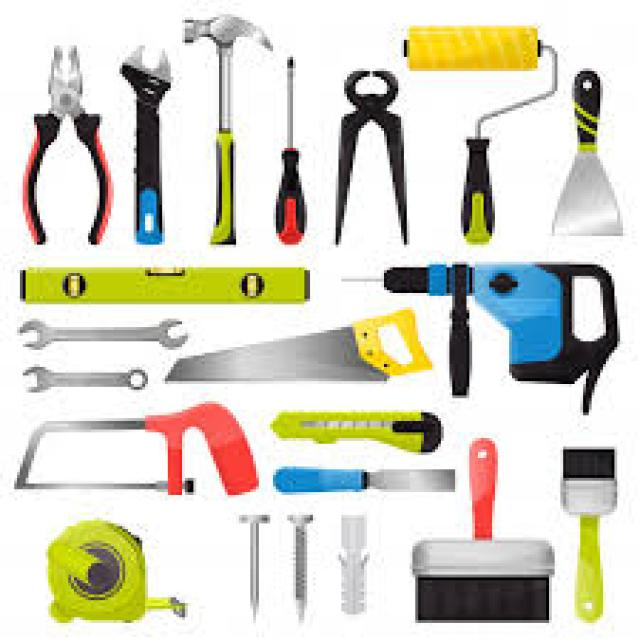hammer: (174, 7, 278, 231)
screw driver: (265, 37, 333, 257)
wrench: (112, 29, 188, 230)
